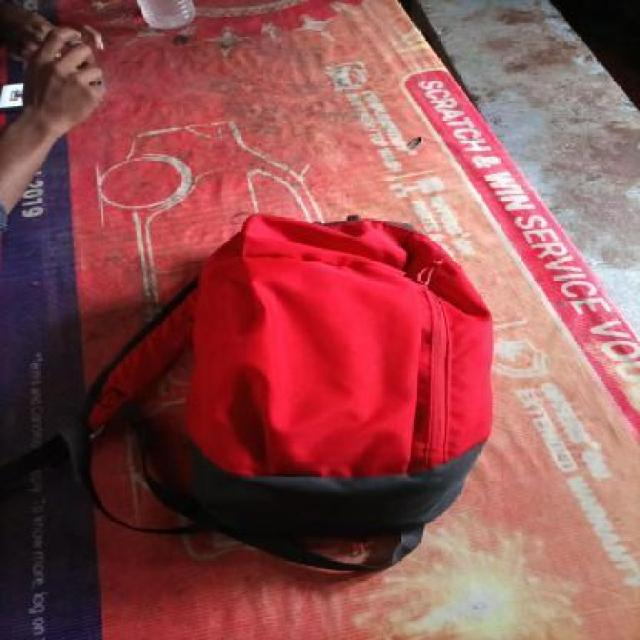backpack: (69, 207, 502, 578)
